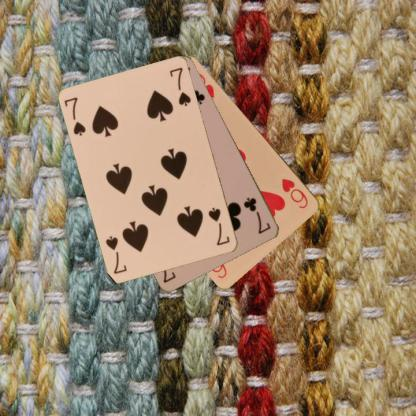6h: (279, 176, 310, 210)
7c: (241, 194, 272, 235)
7s: (206, 204, 232, 247), (62, 95, 87, 138)
